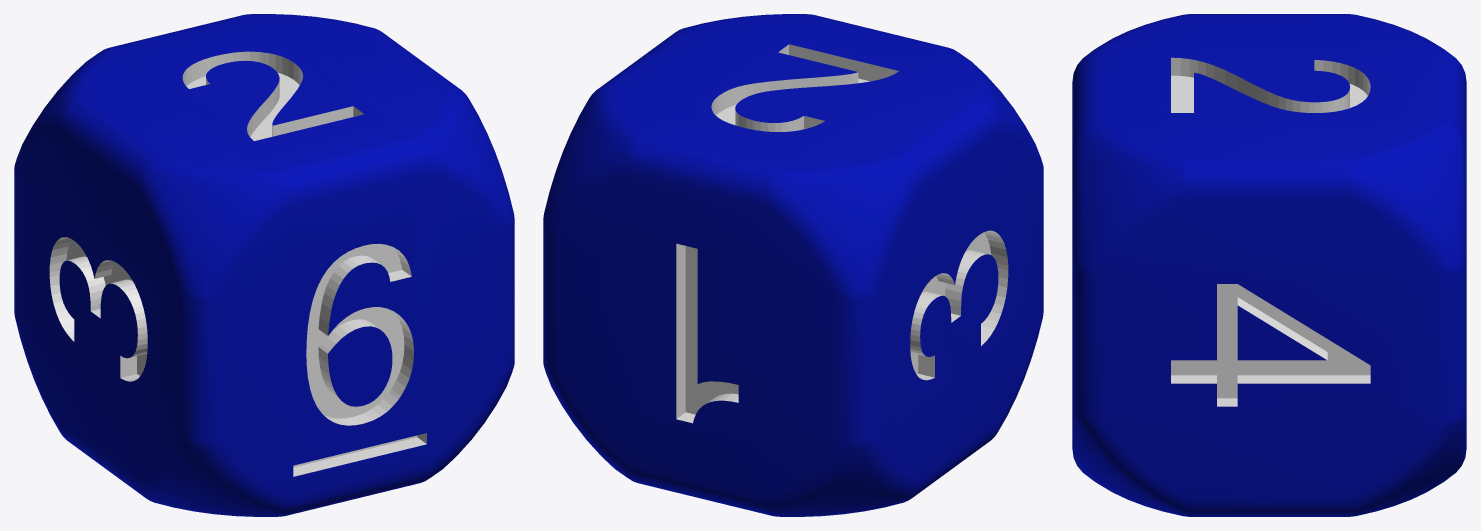
Rendered from DieNum.glb.
3 views of the same model, side by side, from view 1: azimuth 30°, elevation 25°; view 2: azimuth 150°, elevation 25°; view 3: azimuth 270°, elevation 25° (orthographic). The views are drawn at different scales.
Parts seen in each view (by area): view 1: Die_Body; view 2: Die_Body; view 3: Die_Body.
Boxes of the visible parts, box(x1,y1,x2,y2) form: Die_Body: box(14, 14, 514, 516); Die_Body: box(543, 14, 1043, 516); Die_Body: box(1072, 14, 1466, 516).
Size of the model in its own units: 1 by 1 by 1.
